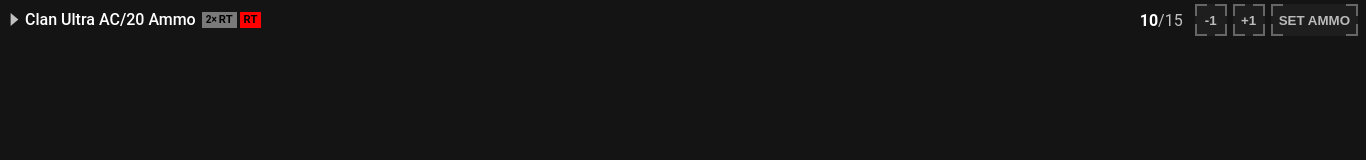
AmmoLoadoutPanelComponent › groups location badges by location and state until expanded
Click the button with class "ammo-expand-button" at (110, 19), box [8,4,1127,36]
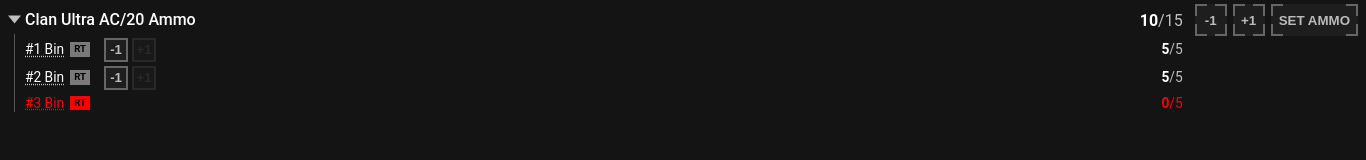
Expected: the number of elements with class "ammo-location-badge" is 3, [70,42,90,57]; [70,70,90,85]; [70,96,90,110]
